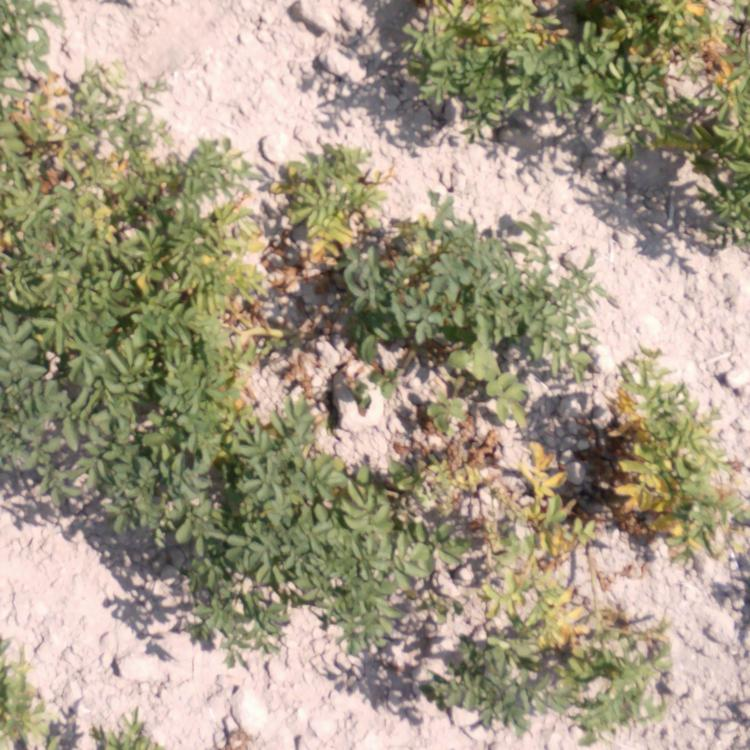healthy: (214, 458, 401, 630), (377, 225, 565, 381), (94, 362, 201, 549), (1, 278, 89, 486)
stressed: (591, 347, 741, 558), (437, 595, 648, 723), (404, 408, 552, 588), (1, 1, 100, 269), (410, 1, 574, 129), (565, 1, 743, 112), (107, 106, 231, 262), (274, 147, 377, 269), (102, 269, 246, 349), (246, 280, 338, 400), (678, 117, 750, 228), (1, 657, 58, 750), (579, 108, 671, 161), (208, 342, 249, 441), (87, 715, 151, 750)
